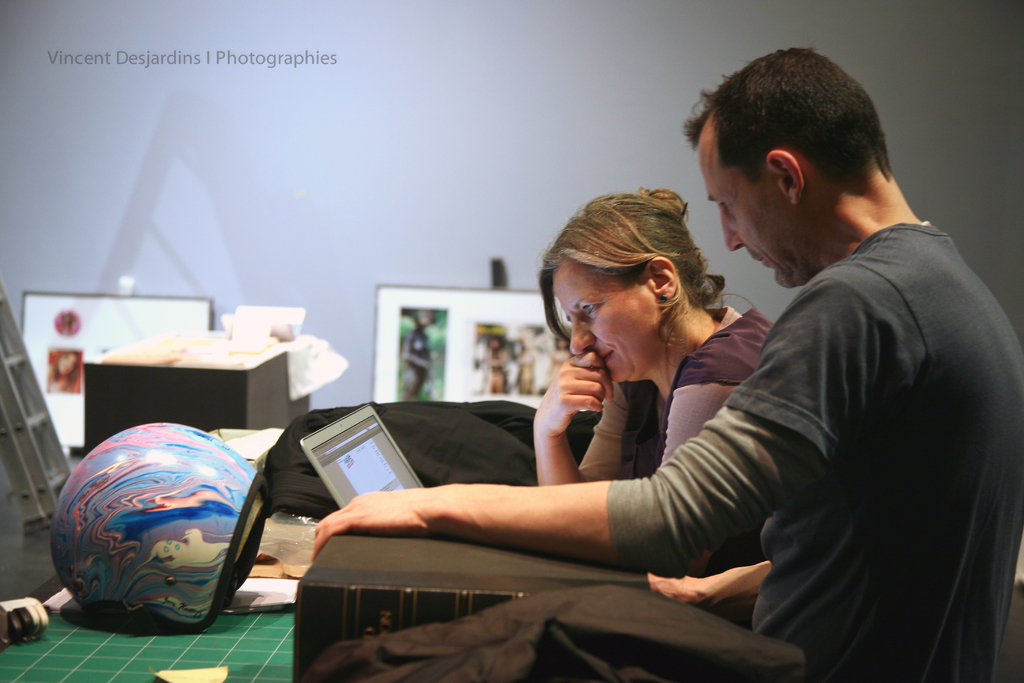Ball: (46, 422, 253, 628)
